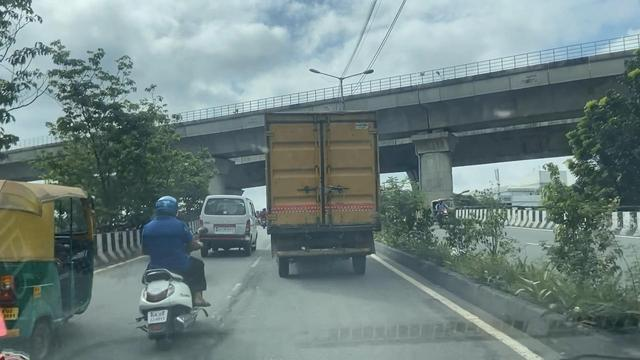HMV: (264, 111, 382, 267)
LMV: (147, 190, 206, 347), (200, 197, 252, 256)
